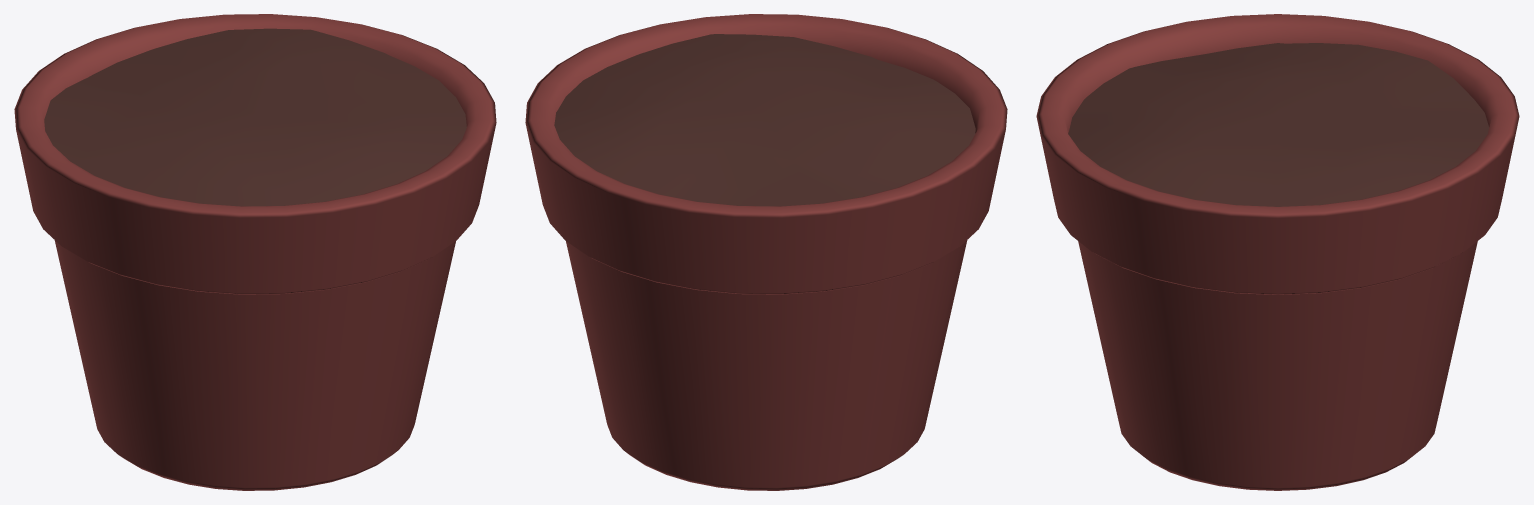
The model's file is Planter1.fbx.
3 renders of one model, left to right at view 1: azimuth 30°, elevation 25°; view 2: azimuth 150°, elevation 25°; view 3: azimuth 270°, elevation 25°, orthographic.
Visible parts, largest first — view 1: Planter1; view 2: Planter1; view 3: Planter1.
Part boxes in pixels (<box>): Planter1: <box>14,14,496,490</box>; Planter1: <box>525,14,1007,490</box>; Planter1: <box>1036,14,1519,490</box>.
Size of the model in its own units: 39.95 by 29.4 by 39.95.
